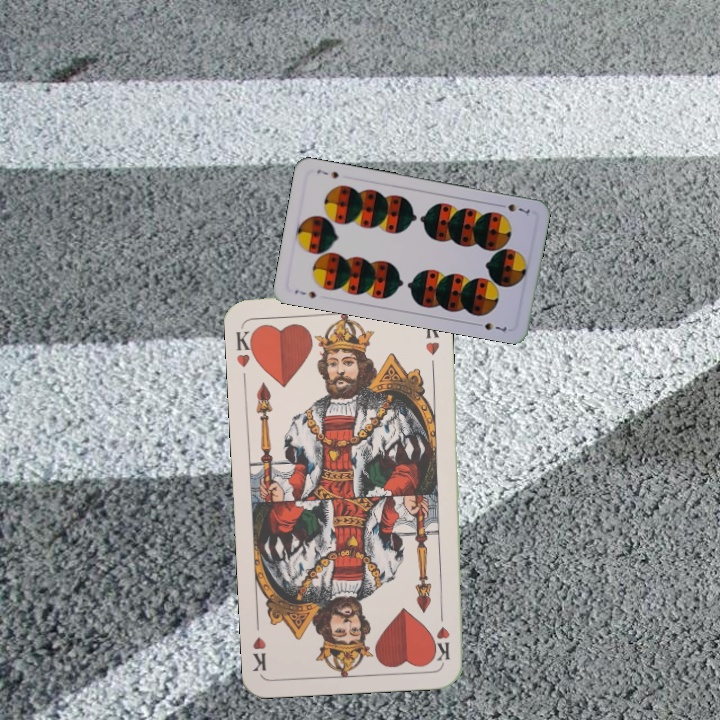HK: (232, 324, 260, 370), (433, 604, 453, 663)
S7: (494, 200, 533, 216), (291, 286, 318, 301)
